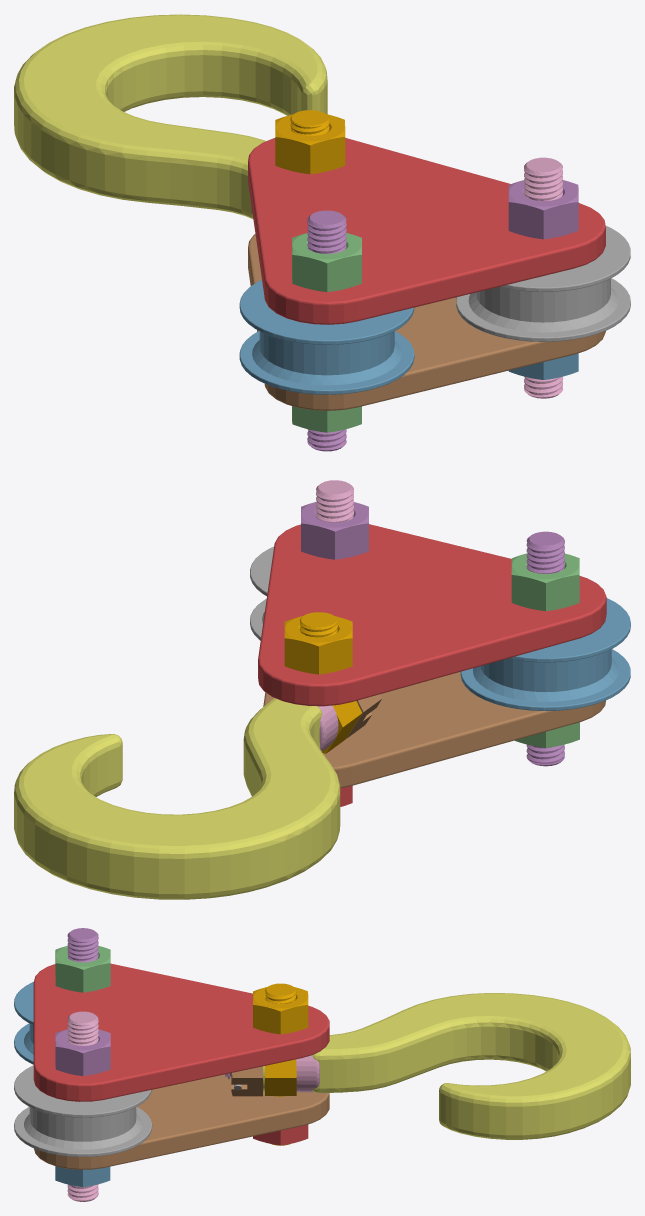
The picture shows the model from 3 angles, top to bottom: view 1: azimuth 30°, elevation 25°; view 2: azimuth 150°, elevation 25°; view 3: azimuth 270°, elevation 25°; orthographic projection. The views are drawn at different scales.
Visible parts, largest first — view 1: g14, g0, g1, g15, g8, g13, g12, g11, g3, g16, g2, g10 (+1 smaller); view 2: g14, g0, g15, g1, g13, g11, g12, g3, g4, g16, g8, g2 (+1 smaller); view 3: g14, g0, g15, g8, g13, g12, g11, g4, g16, g1, g3, g10 (+3 smaller).
Part boxes in pixels (<box>): g14: <box>14,14,327,218</box>; g0: <box>248,138,605,324</box>; g1: <box>239,280,414,394</box>; g15: <box>248,234,605,410</box>; g8: <box>456,226,630,341</box>; g13: <box>275,114,345,174</box>; g12: <box>508,180,578,239</box>; g11: <box>292,233,361,291</box>; g3: <box>307,210,346,451</box>; g16: <box>524,157,562,398</box>; g2: <box>292,406,361,432</box>; g10: <box>508,353,578,379</box>; g14: <box>14,698,340,899</box>; g0: <box>258,524,606,706</box>; g15: <box>263,672,605,788</box>; g1: <box>460,598,630,710</box>; g13: <box>284,616,352,674</box>; g11: <box>511,553,579,611</box>; g12: <box>301,501,368,559</box>; g3: <box>526,531,564,766</box>; g4: <box>299,612,362,753</box>; g16: <box>316,480,353,522</box>; g8: <box>250,546,273,640</box>; g2: <box>515,722,579,747</box>; g14: <box>312,993,630,1139</box>; g0: <box>33,963,329,1101</box>; g15: <box>34,1074,329,1169</box>; g8: <box>14,1065,152,1156</box>; g13: <box>253,987,308,1034</box>; g12: <box>55,1029,110,1075</box>; g11: <box>55,945,110,992</box>; g4: <box>265,983,296,1145</box>; g16: <box>67,1011,98,1201</box>; g1: <box>14,982,33,1064</box>; g3: <box>67,928,98,962</box>; g10: <box>55,1166,110,1186</box>.
Bounding box in the file's own units: 1.03 × 0.6083 × 1.9.
